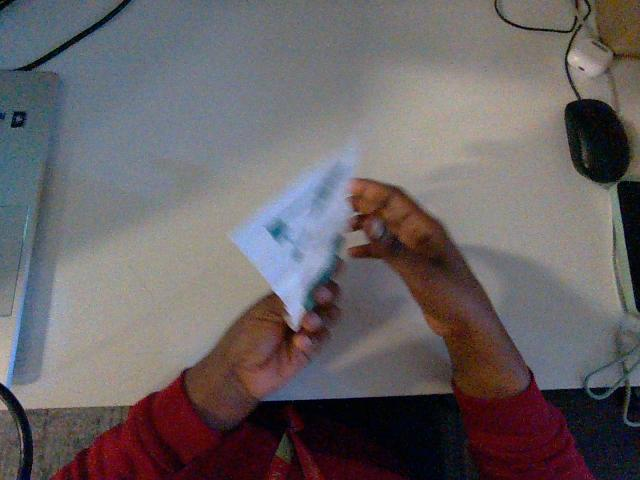gallipot: (232, 145, 358, 330)
